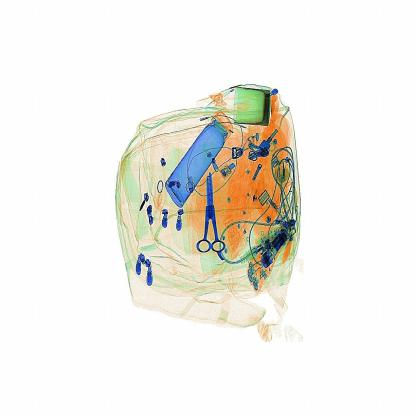gun: (196, 166, 235, 265)
